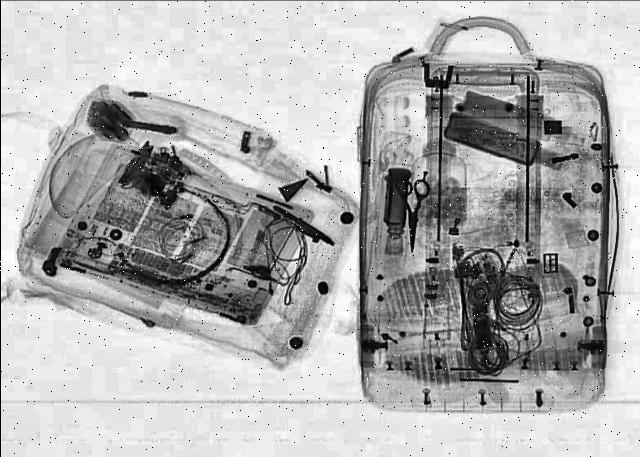Scissors: (392, 178, 430, 254)
